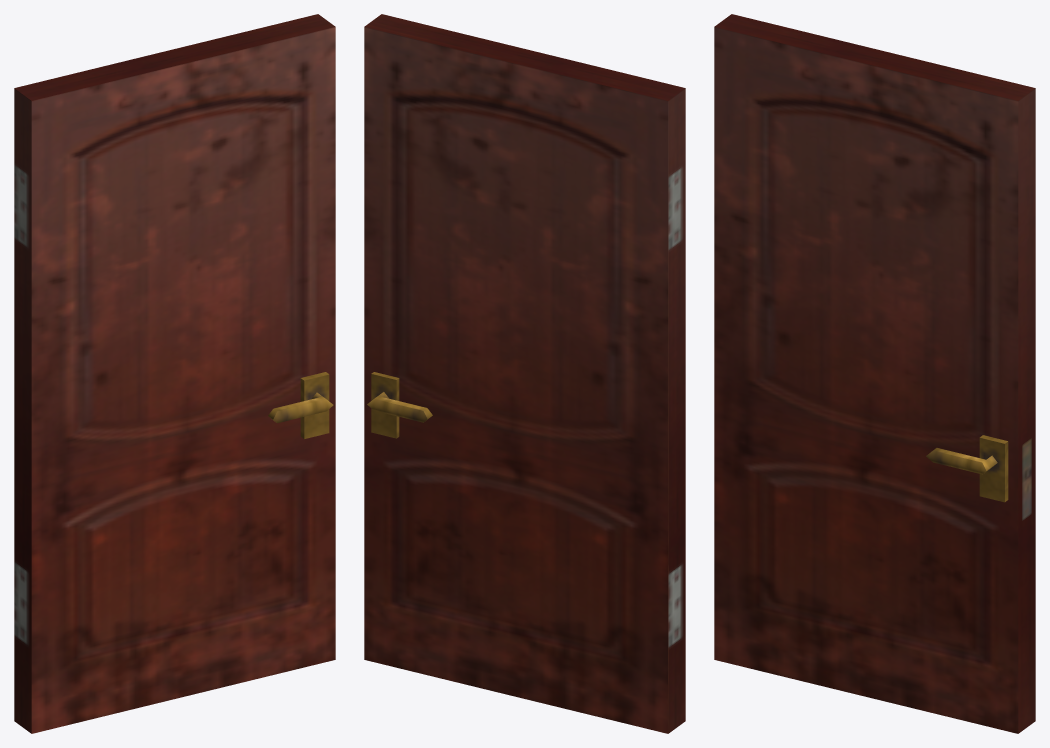
Rendered from door_002.obj.
3 views of the same model, side by side, from view 1: azimuth 30°, elevation 25°; view 2: azimuth 150°, elevation 25°; view 3: azimuth 330°, elevation 25° (orthographic).
Visible parts, largest first — view 1: Door05, DoorHandle_Handle; view 2: Door05, DoorHandle_Handle.001; view 3: Door05, DoorHandle_Handle.
Boxes of the visible parts, box(x1,y1,x2,y2) form: Door05: box(14, 14, 335, 733); DoorHandle_Handle: box(268, 372, 333, 439); Door05: box(364, 14, 685, 733); DoorHandle_Handle.001: box(367, 372, 432, 438); Door05: box(714, 14, 1035, 733); DoorHandle_Handle: box(926, 435, 1008, 502).
Bounding box in the file's own units: 1 × 1.99 × 0.265.
2 materials, 2 textured.
